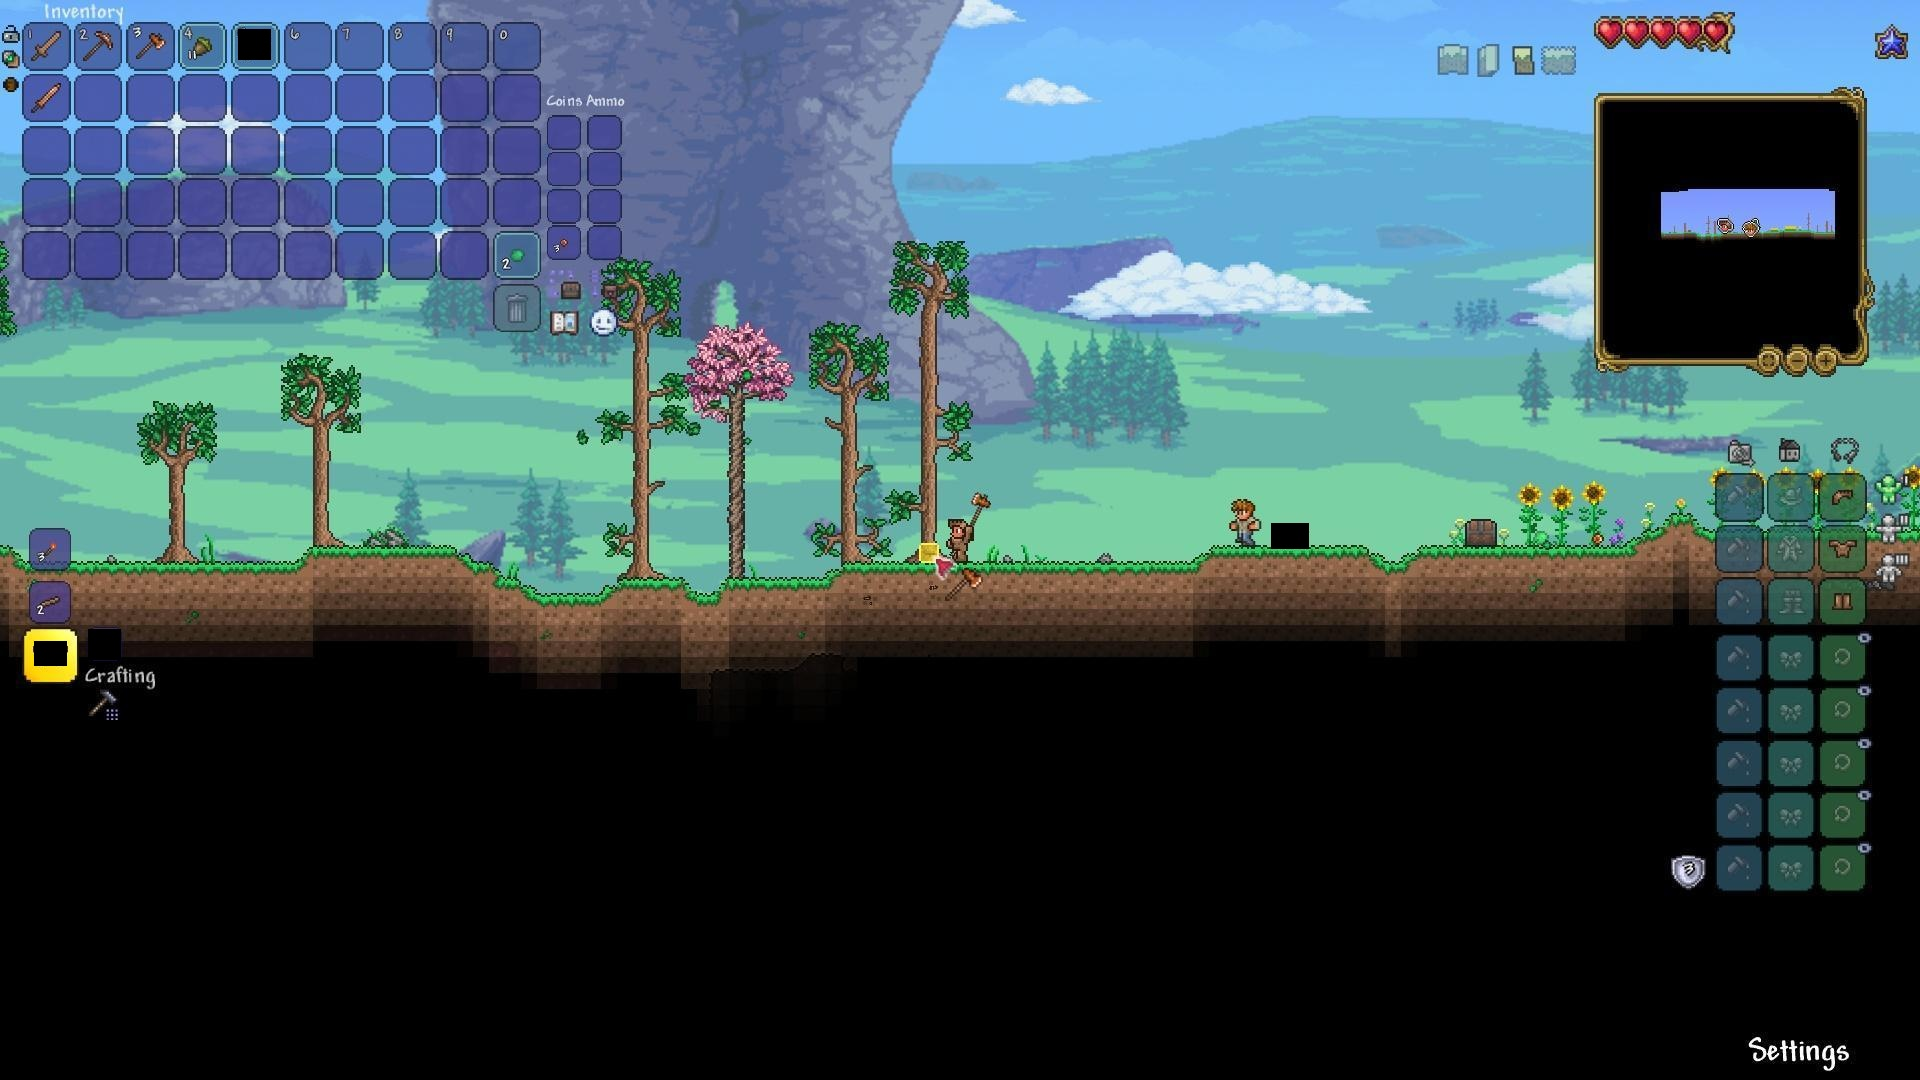breastplate: (1830, 539, 1859, 560)
helmet: (1829, 483, 1859, 509)
legs: (1832, 588, 1855, 616)
